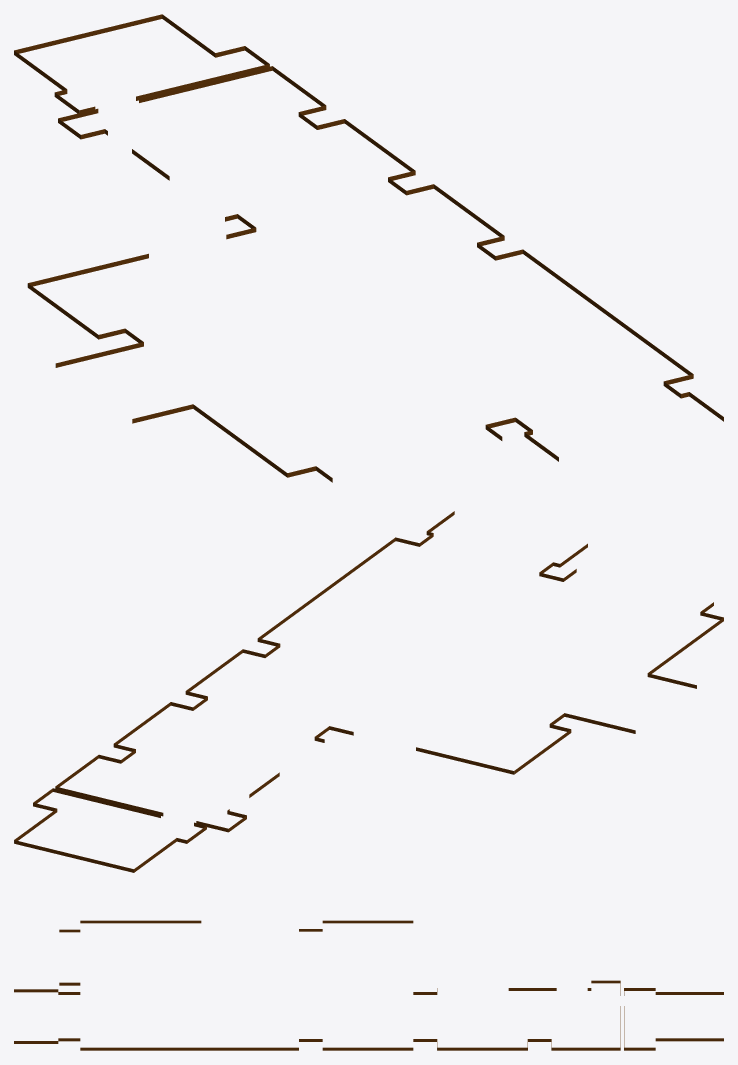
The model's file is Baseboard1.FBX.
3 views of the same model, one above another, from view 1: azimuth 30°, elevation 25°; view 2: azimuth 150°, elevation 25°; view 3: azimuth 270°, elevation 25° (orthographic). The views are drawn at different scales.
Parts seen in each view (by area): view 1: 137:1:1; view 2: 137:1:1; view 3: 137:1:1.
Boxes of the visible parts, <box> form: 137:1:1: <box>14,14,723,482</box>; 137:1:1: <box>14,511,723,872</box>; 137:1:1: <box>14,920,723,1050</box>.
Size of the model in its own units: 429 by 3.94 by 880.
